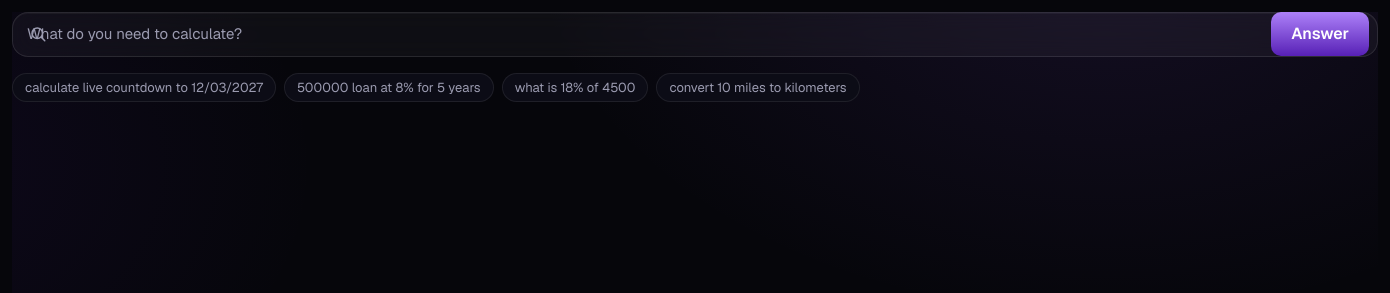
Scenario: IntentSearch › shows a live countdown interpretation for a date countdown query
Type "calculate live countdown to 12/03/2027" into the field at (695, 34), box x1=13 y1=13 x2=1377 y2=56
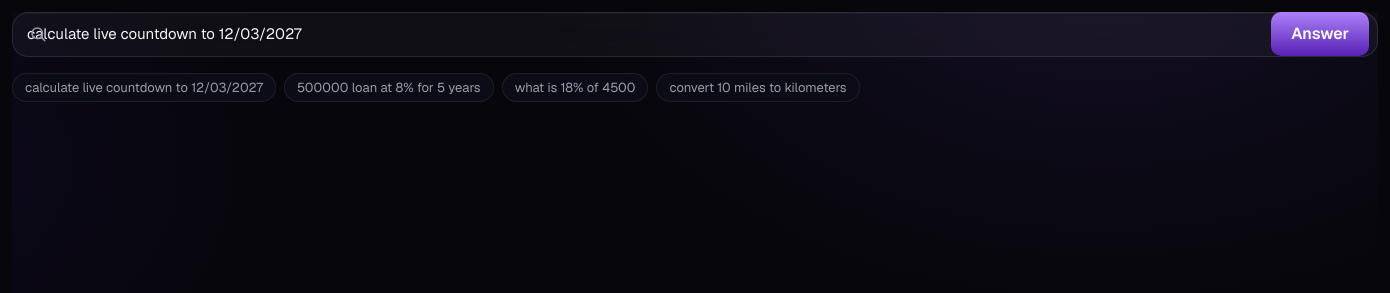
Submit the form, box x1=12 y1=12 x2=1378 y2=56
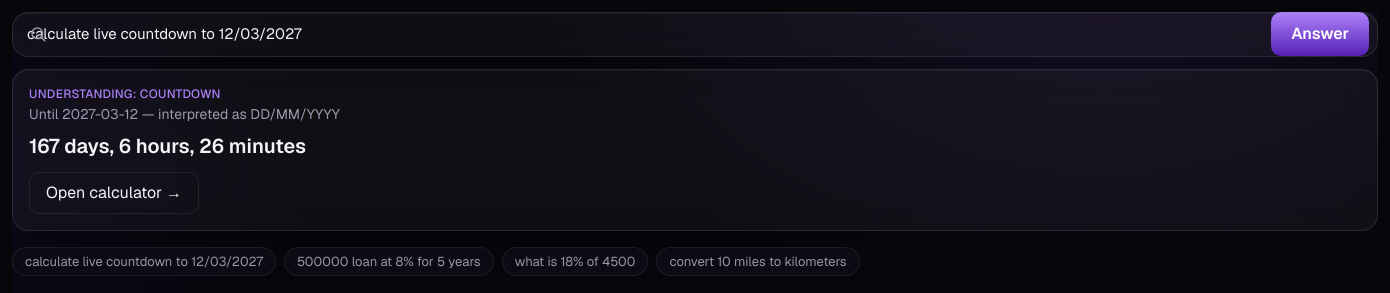
Expected: the text "Understanding: Countdown" is shown, x1=29 y1=86 x2=221 y2=102
Expected: the text "Until 2027-03-12 — interpreted as DD/MM/YYYY" is shown, x1=29 y1=104 x2=340 y2=122
